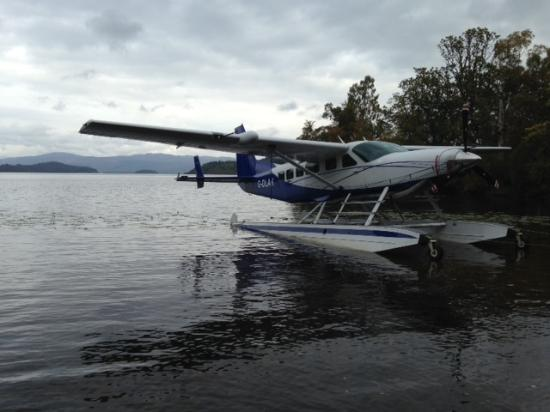Aeronef_commercial: (67, 112, 536, 286)
